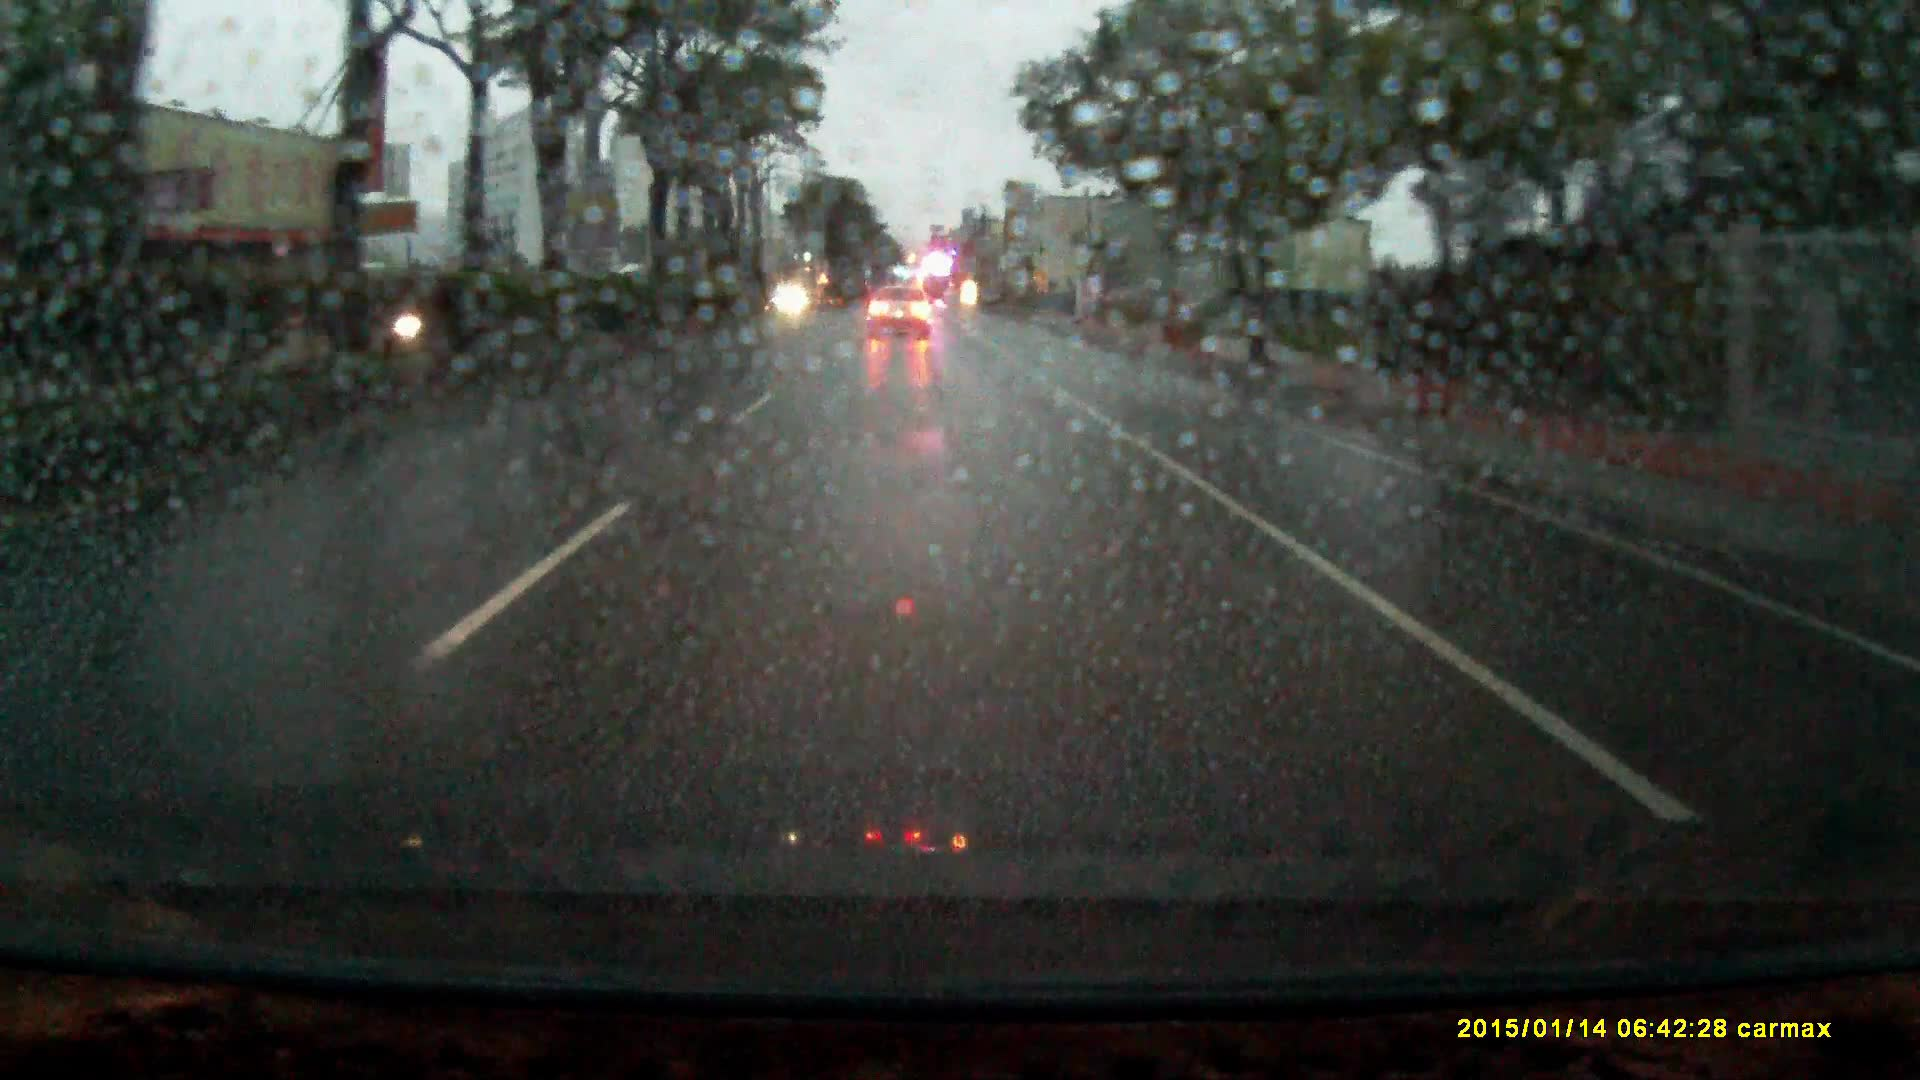vehicle: (869, 291, 934, 345)
